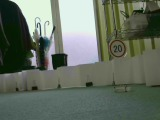speed_20: (106, 39, 128, 59)
